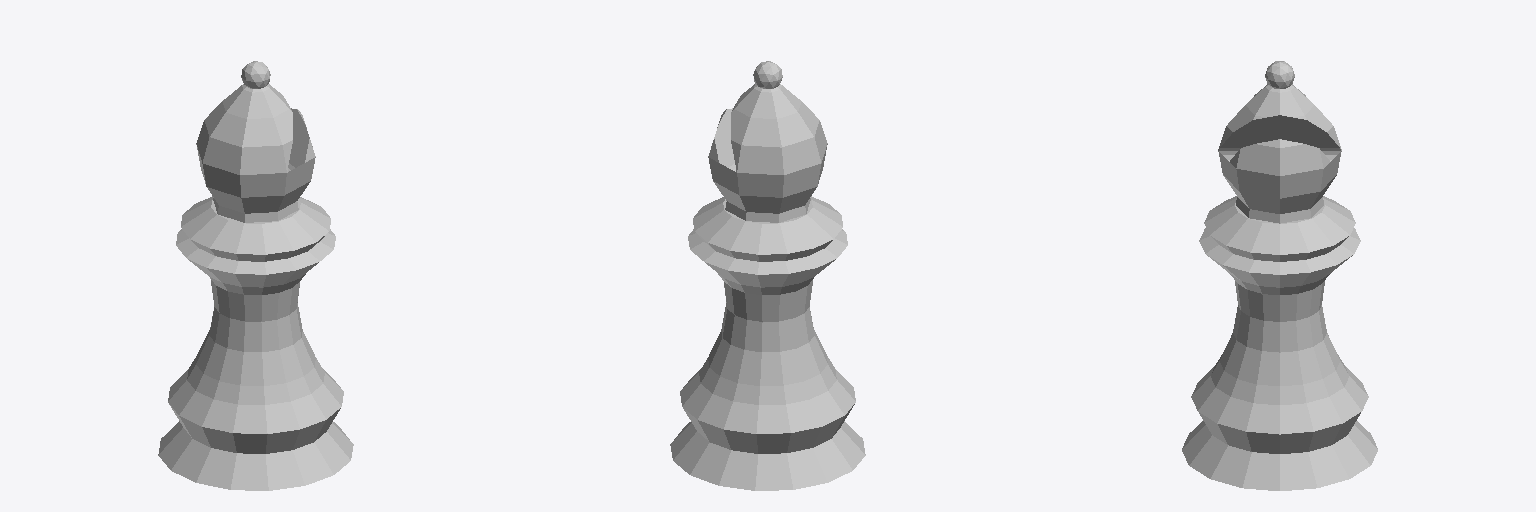
File: bishop.obj
3 renders of one model, left to right at view 1: azimuth 30°, elevation 25°; view 2: azimuth 150°, elevation 25°; view 3: azimuth 270°, elevation 25°, orthographic.
Visible parts, largest first — view 1: Cylinder.006, Sphere.001, Icosphere.005; view 2: Cylinder.006, Sphere.001, Icosphere.005; view 3: Cylinder.006, Sphere.001, Icosphere.005.
Part boxes in pixels (left/top/right/bottom): Cylinder.006: left=158, top=196, right=353, bottom=490; Sphere.001: left=196, top=84, right=315, bottom=222; Icosphere.005: left=241, top=61, right=270, bottom=88; Cylinder.006: left=670, top=196, right=865, bottom=490; Sphere.001: left=708, top=84, right=827, bottom=222; Icosphere.005: left=753, top=61, right=782, bottom=88; Cylinder.006: left=1182, top=196, right=1377, bottom=490; Sphere.001: left=1218, top=84, right=1341, bottom=223; Icosphere.005: left=1265, top=61, right=1294, bottom=88.
Size of the model in its own units: 3.68 by 7.99 by 3.68.